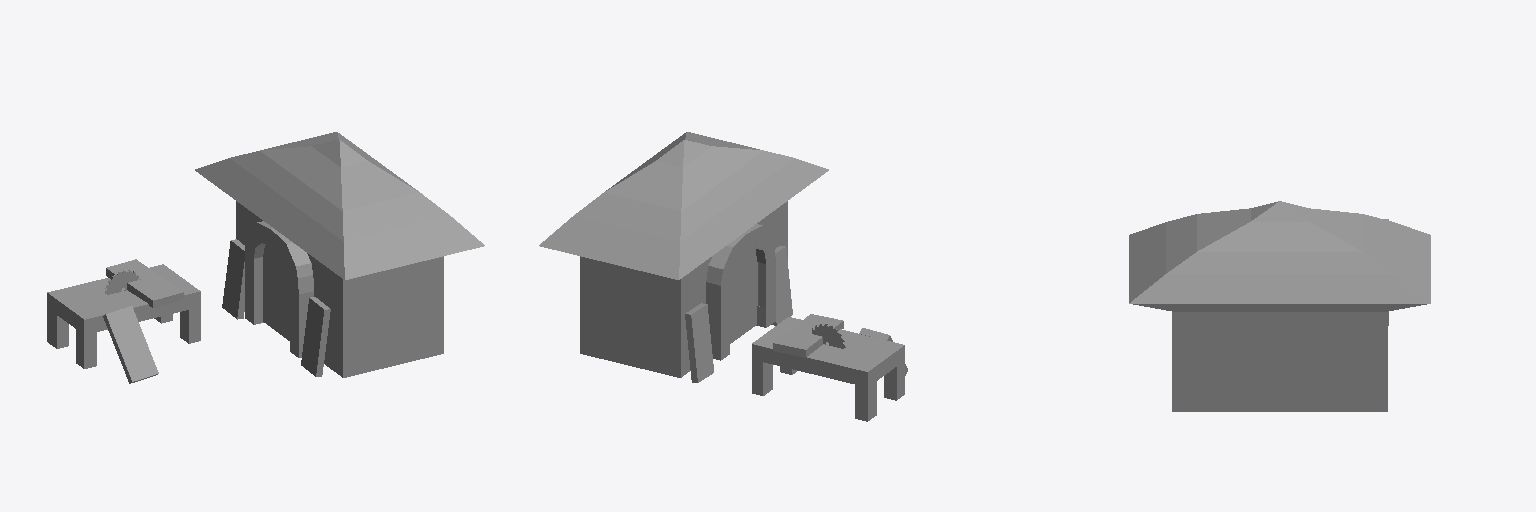
The model's file is aserradero.obj.
3 renders of one model, left to right at view 1: azimuth 30°, elevation 25°; view 2: azimuth 150°, elevation 25°; view 3: azimuth 270°, elevation 25°, orthographic.
Parts seen in each view (by area): view 1: Cube.002; view 2: Cube.002; view 3: Cube.002.
Boxes of the visible parts, x1,y1,x2,y2 form: Cube.002: [47, 132, 484, 383]; Cube.002: [539, 132, 907, 421]; Cube.002: [1129, 201, 1430, 411].
Size of the model in its own units: 7.06 by 4.16 by 5.98.